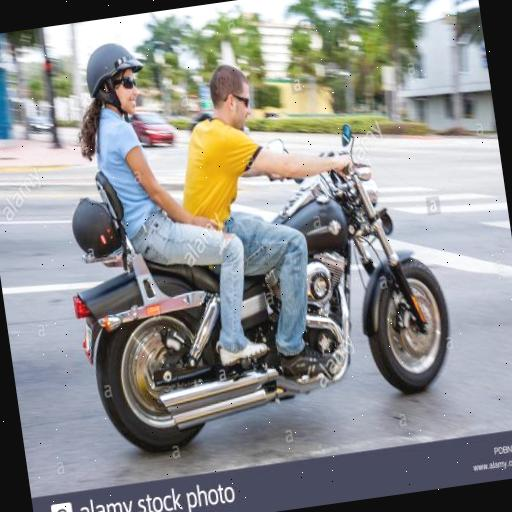no helmet: (161, 28, 418, 435)
